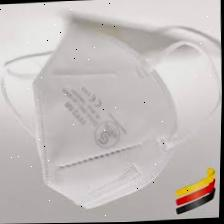mask: (1, 7, 217, 221)
